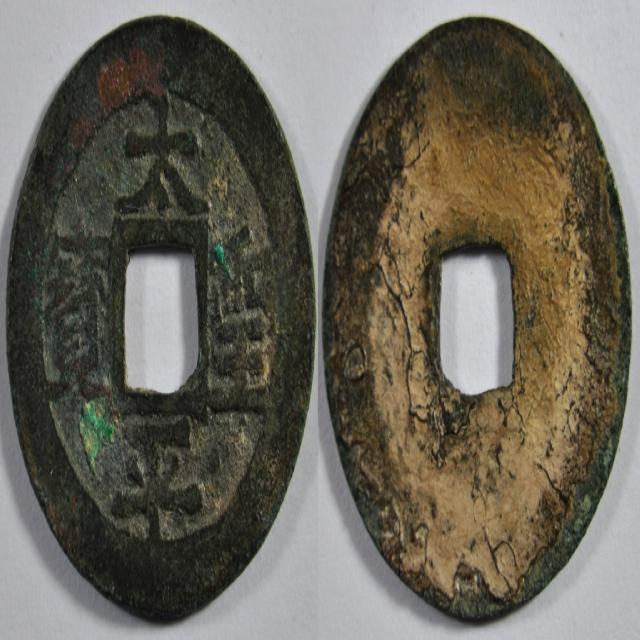Coin: (6, 9, 318, 624), (322, 12, 633, 626)
